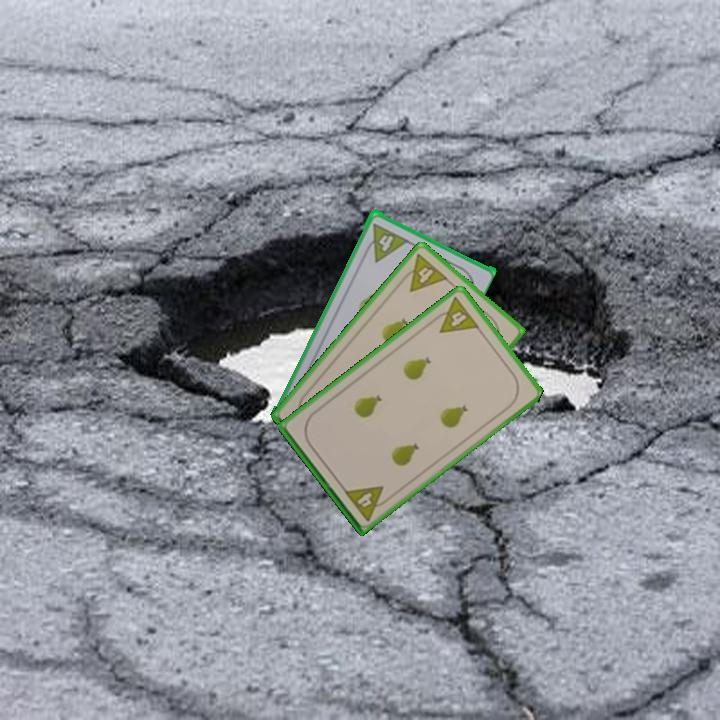4p: (396, 250, 451, 295), (428, 293, 482, 336), (340, 482, 393, 524), (374, 228, 409, 264)
